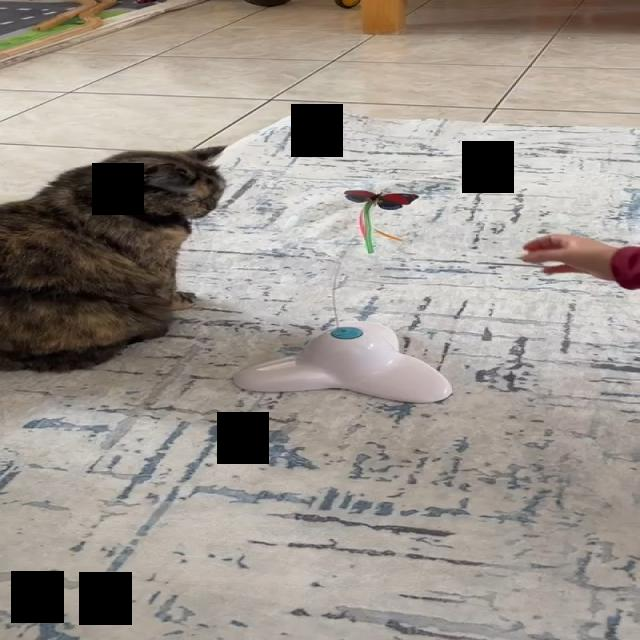authorized: (0, 144, 228, 373)
